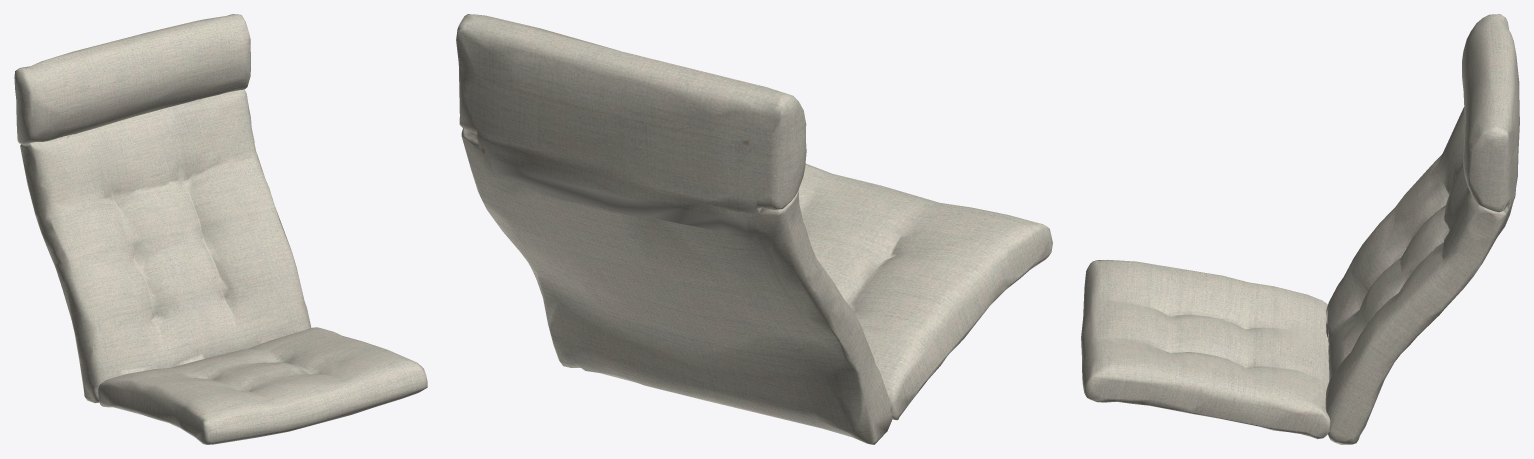
3 renders of one model, left to right at view 1: azimuth 30°, elevation 25°; view 2: azimuth 150°, elevation 25°; view 3: azimuth 270°, elevation 25°, orthographic. The views are drawn at different scales.
Visible parts, largest first — view 1: 50560517-POÃƒâ€žNG001; view 2: 50560517-POÃƒâ€žNG001; view 3: 50560517-POÃƒâ€žNG001.
Boxes of the visible parts, x1=… form: 50560517-POÃƒâ€žNG001: x1=14, y1=14, x2=427, y2=444; 50560517-POÃƒâ€žNG001: x1=456, y1=14, x2=1052, y2=444; 50560517-POÃƒâ€žNG001: x1=1081, y1=14, x2=1519, y2=444.
Size of the model in its own units: 0.5813 by 0.7017 by 0.8707.
1 material, 1 textured.
